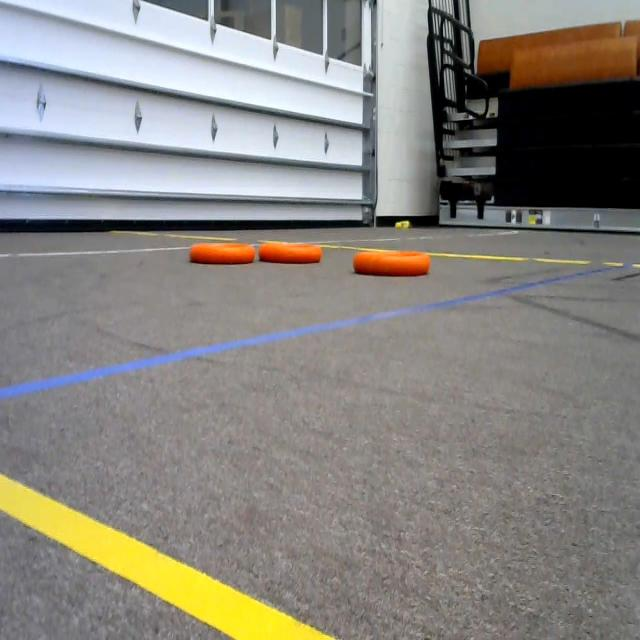note: (352, 239, 438, 278), (189, 233, 258, 278), (259, 234, 329, 270)
